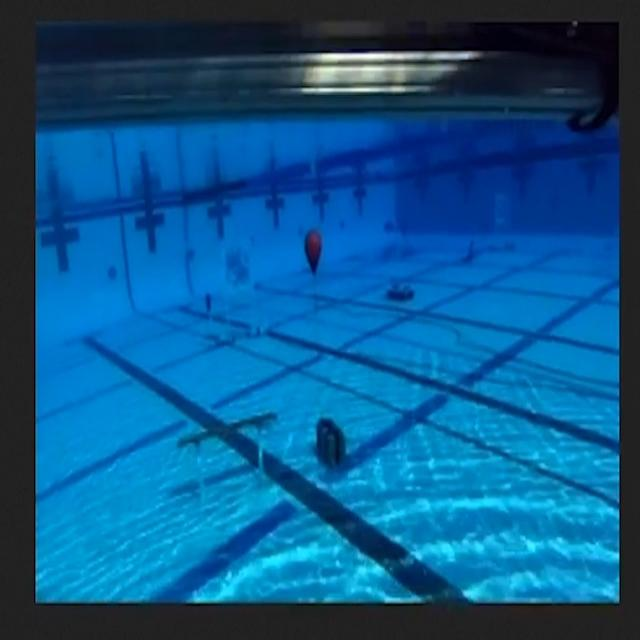Buoy: (294, 217, 336, 295)
Path: (169, 398, 278, 500)
